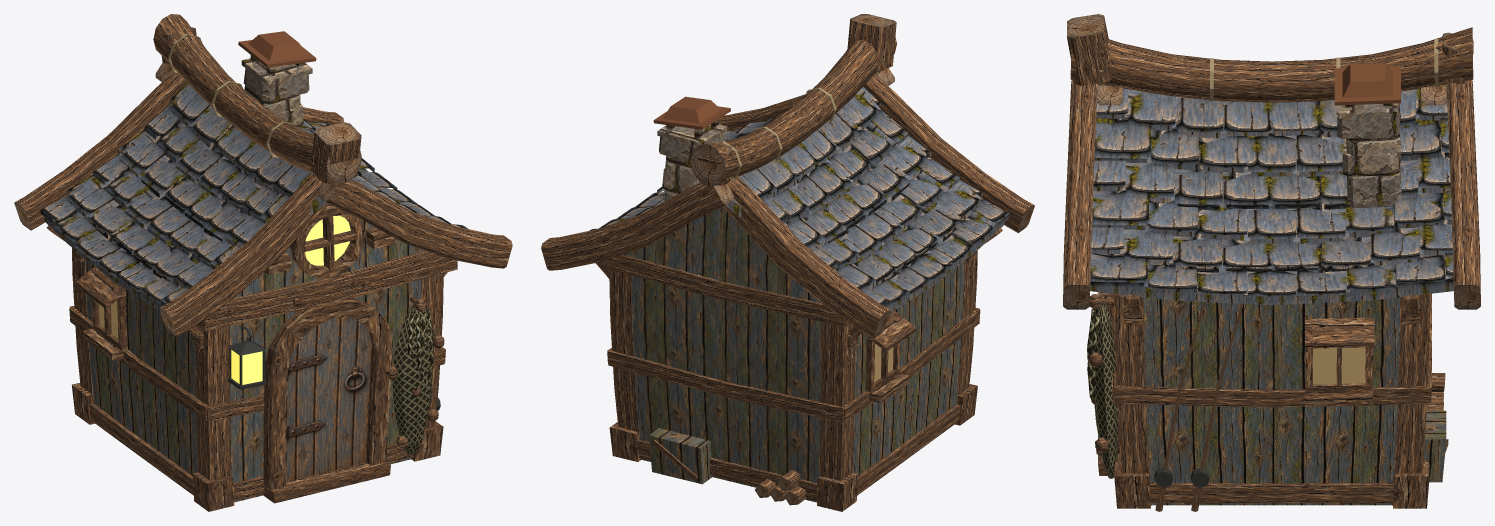
File: house-lake-01.glb
3 renders of one model, left to right at view 1: azimuth 30°, elevation 25°; view 2: azimuth 150°, elevation 25°; view 3: azimuth 270°, elevation 25°, orthographic. The views are drawn at different scales.
Parts seen in each view (by area): view 1: shingles, body, barge, belts, door, doortrim, ridge, posts, roofbase, net, chimney, roundframe (+12 smaller); view 2: body, shingles, barge, belts, posts, ridge, roofbase, chimney, footings, crate, ridgeends, sideframe_-1 (+3 smaller); view 3: shingles, body, ridge, barge, belts, roofbase, posts, chimney, ridgeends, net, footings, chimneycap (+11 smaller).
Part boxes in pixels (x1,y1,x2,y2): shingles: [40, 82, 468, 307]; body: [85, 219, 425, 502]; barge: [14, 62, 512, 336]; belts: [69, 251, 457, 500]; door: [286, 317, 372, 481]; doortrim: [264, 298, 393, 489]; ridge: [153, 14, 361, 183]; posts: [72, 248, 443, 480]; roofbase: [44, 85, 388, 309]; net: [392, 304, 434, 454]; chimney: [241, 55, 312, 127]; roundframe: [290, 204, 365, 278]; body: [624, 207, 964, 502]; shingles: [589, 86, 1010, 309]; barge: [541, 68, 1034, 338]; belts: [604, 254, 980, 500]; posts: [609, 250, 977, 480]; ridge: [690, 36, 896, 186]; roofbase: [664, 88, 1004, 311]; chimney: [657, 119, 727, 200]; footings: [609, 384, 977, 511]; crate: [648, 428, 712, 484]; ridgeends: [697, 14, 896, 185]; sideframe_-1: [865, 336, 910, 402]; shingles: [1090, 84, 1453, 300]; body: [1144, 297, 1399, 505]; ridge: [1070, 27, 1473, 102]; barge: [1063, 80, 1480, 309]; belts: [1101, 292, 1431, 503]; roofbase: [1090, 89, 1453, 305]; posts: [1114, 294, 1429, 505]; chimney: [1337, 103, 1401, 207]; ridgeends: [1067, 14, 1473, 85]; net: [1091, 304, 1117, 478]; footings: [1114, 462, 1429, 508]; chimneycap: [1334, 63, 1400, 105].
Size of the model in its own units: 2.87 by 2.99 by 2.7.
Materials: 14 (9 with a texture image).
